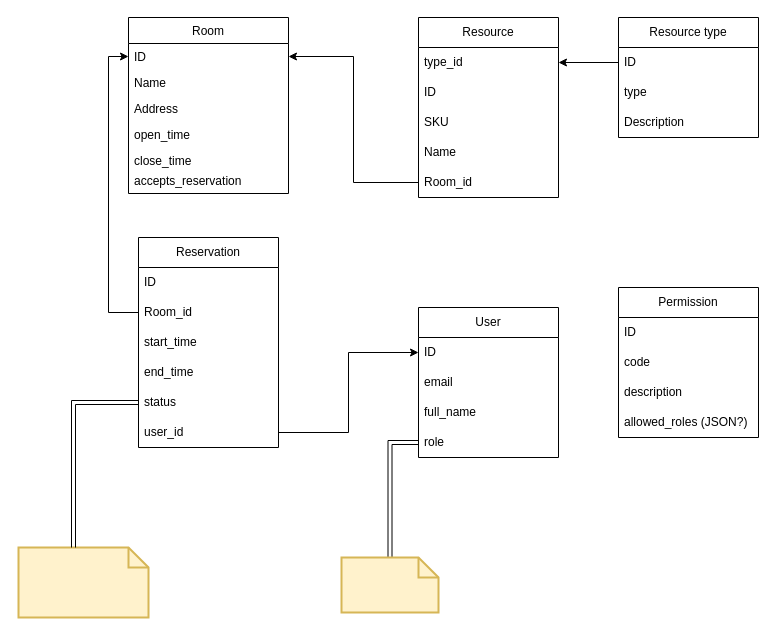
The diagram is 776 pixels wide and 636 high, and some of its shapes have lost their labels. The shapes that lost their labels are listed below. From the top down, each one's centre as x and y in pixels, then its label:
pixel 83 582: APPROVED DENIED REVIEW_PENDING
pixel 389 584: USER STAFF ADMIN
